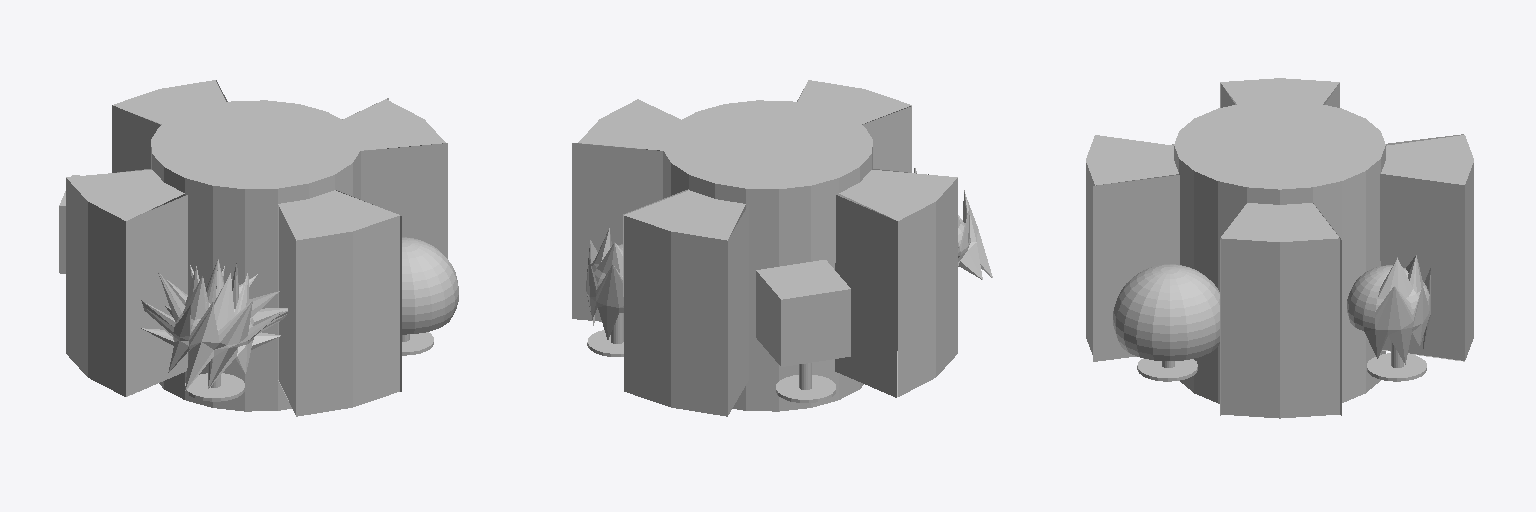
Rendered from spin.obj.
3 renders of one model, left to right at view 1: azimuth 30°, elevation 25°; view 2: azimuth 150°, elevation 25°; view 3: azimuth 270°, elevation 25°, orthographic.
Parts seen in each view (by area): view 1: pPipe1, pCylinder1, goku:pSphere2, pPlane8, pPlane1, pSphere1, pPlane5, pPlane3, pCylinder2, pCylinder5, pCube1; view 2: pPipe1, pCylinder1, pPlane4, pCube1, pPlane7, pPlane3, pSphere2, pPlane5, goku:pSphere2, pCylinder9, pCylinder7; view 3: pPipe1, pCylinder1, pPlane6, pPlane2, pSphere1, pSphere2, pCylinder7, pCylinder5.
Part boxes in pixels (left/top/right/bottom): pPipe1: left=66, top=80, right=445, bottom=416; pCylinder1: left=151, top=100, right=360, bottom=411; goku:pSphere2: left=141, top=259, right=287, bottom=390; pPlane8: left=126, top=195, right=187, bottom=396; pPlane1: left=361, top=143, right=447, bottom=258; pSphere1: left=402, top=237, right=458, bottom=334; pPlane5: left=279, top=207, right=295, bottom=414; pPlane3: left=112, top=105, right=160, bottom=172; pCylinder2: left=185, top=373, right=244, bottom=401; pCylinder5: left=402, top=332, right=433, bottom=355; pCube1: left=59, top=175, right=79, bottom=273; pPipe1: left=578, top=80, right=957, bottom=416; pCylinder1: left=663, top=100, right=872, bottom=411; pPlane4: left=835, top=195, right=897, bottom=397; pCube1: left=756, top=260, right=850, bottom=366; pPlane7: left=572, top=143, right=662, bottom=321; pPlane3: left=728, top=205, right=748, bottom=414; pSphere2: left=586, top=228, right=623, bottom=339; pPlane5: left=863, top=106, right=911, bottom=172; goku:pSphere2: left=914, top=168, right=992, bottom=279; pCylinder9: left=776, top=375, right=835, bottom=402; pCylinder7: left=587, top=330, right=623, bottom=356; pPipe1: left=1086, top=78, right=1473, bottom=418; pCylinder1: left=1174, top=100, right=1385, bottom=403; pPlane6: left=1380, top=174, right=1464, bottom=360; pPlane2: left=1093, top=175, right=1179, bottom=361; pSphere1: left=1113, top=264, right=1219, bottom=360; pSphere2: left=1347, top=255, right=1430, bottom=364; pCylinder7: left=1367, top=353, right=1426, bottom=381; pCylinder5: left=1137, top=358, right=1197, bottom=381.
Bounding box in the file's own units: 2 × 1.26 × 2.